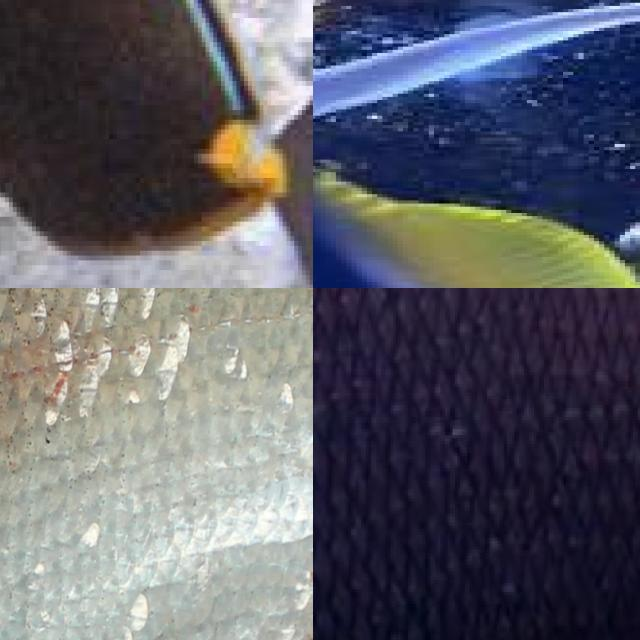fish: (0, 288, 313, 640), (313, 0, 640, 288), (0, 0, 313, 288), (313, 365, 640, 640)
